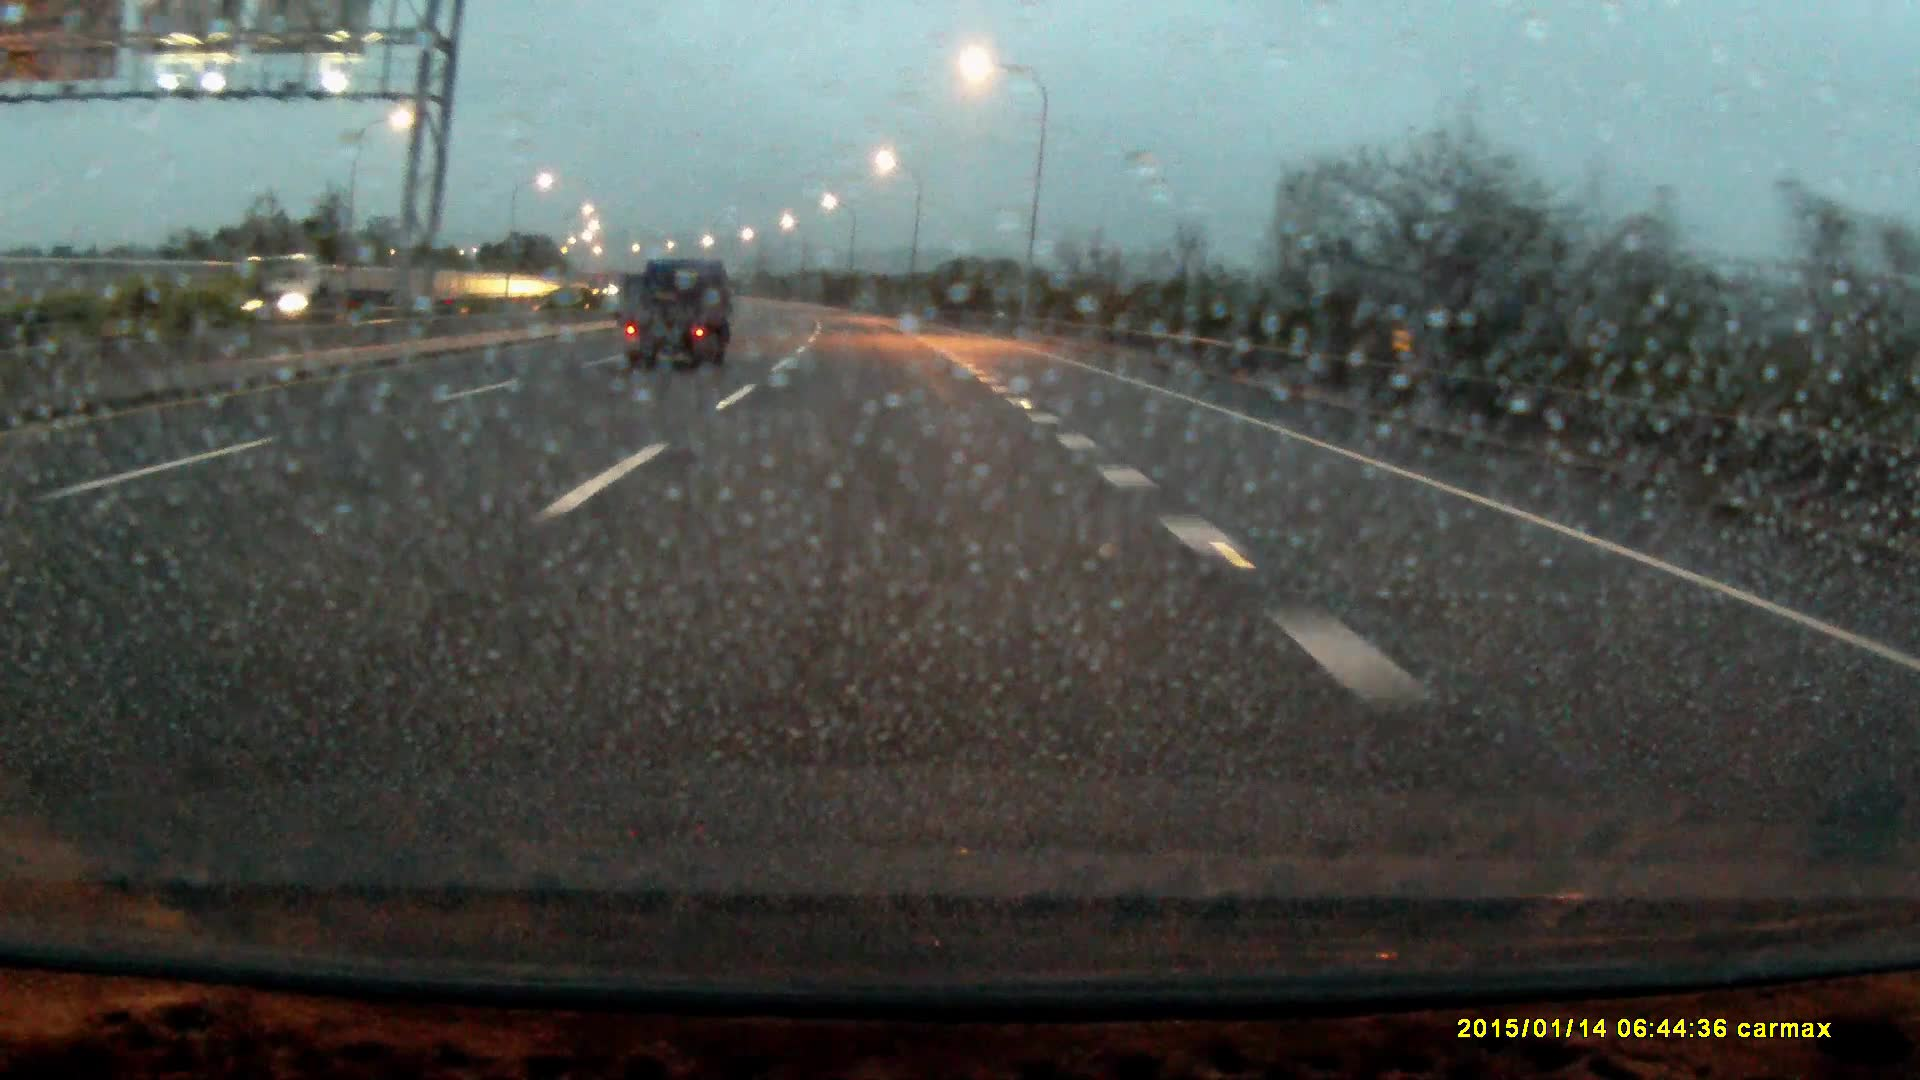vehicle: (624, 262, 736, 378), (239, 252, 386, 324)
